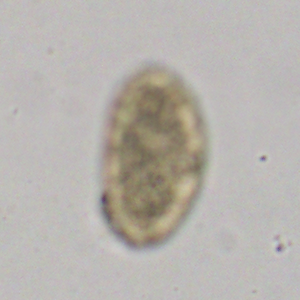Fasciola_hepatica_egg: (98, 61, 211, 253)
